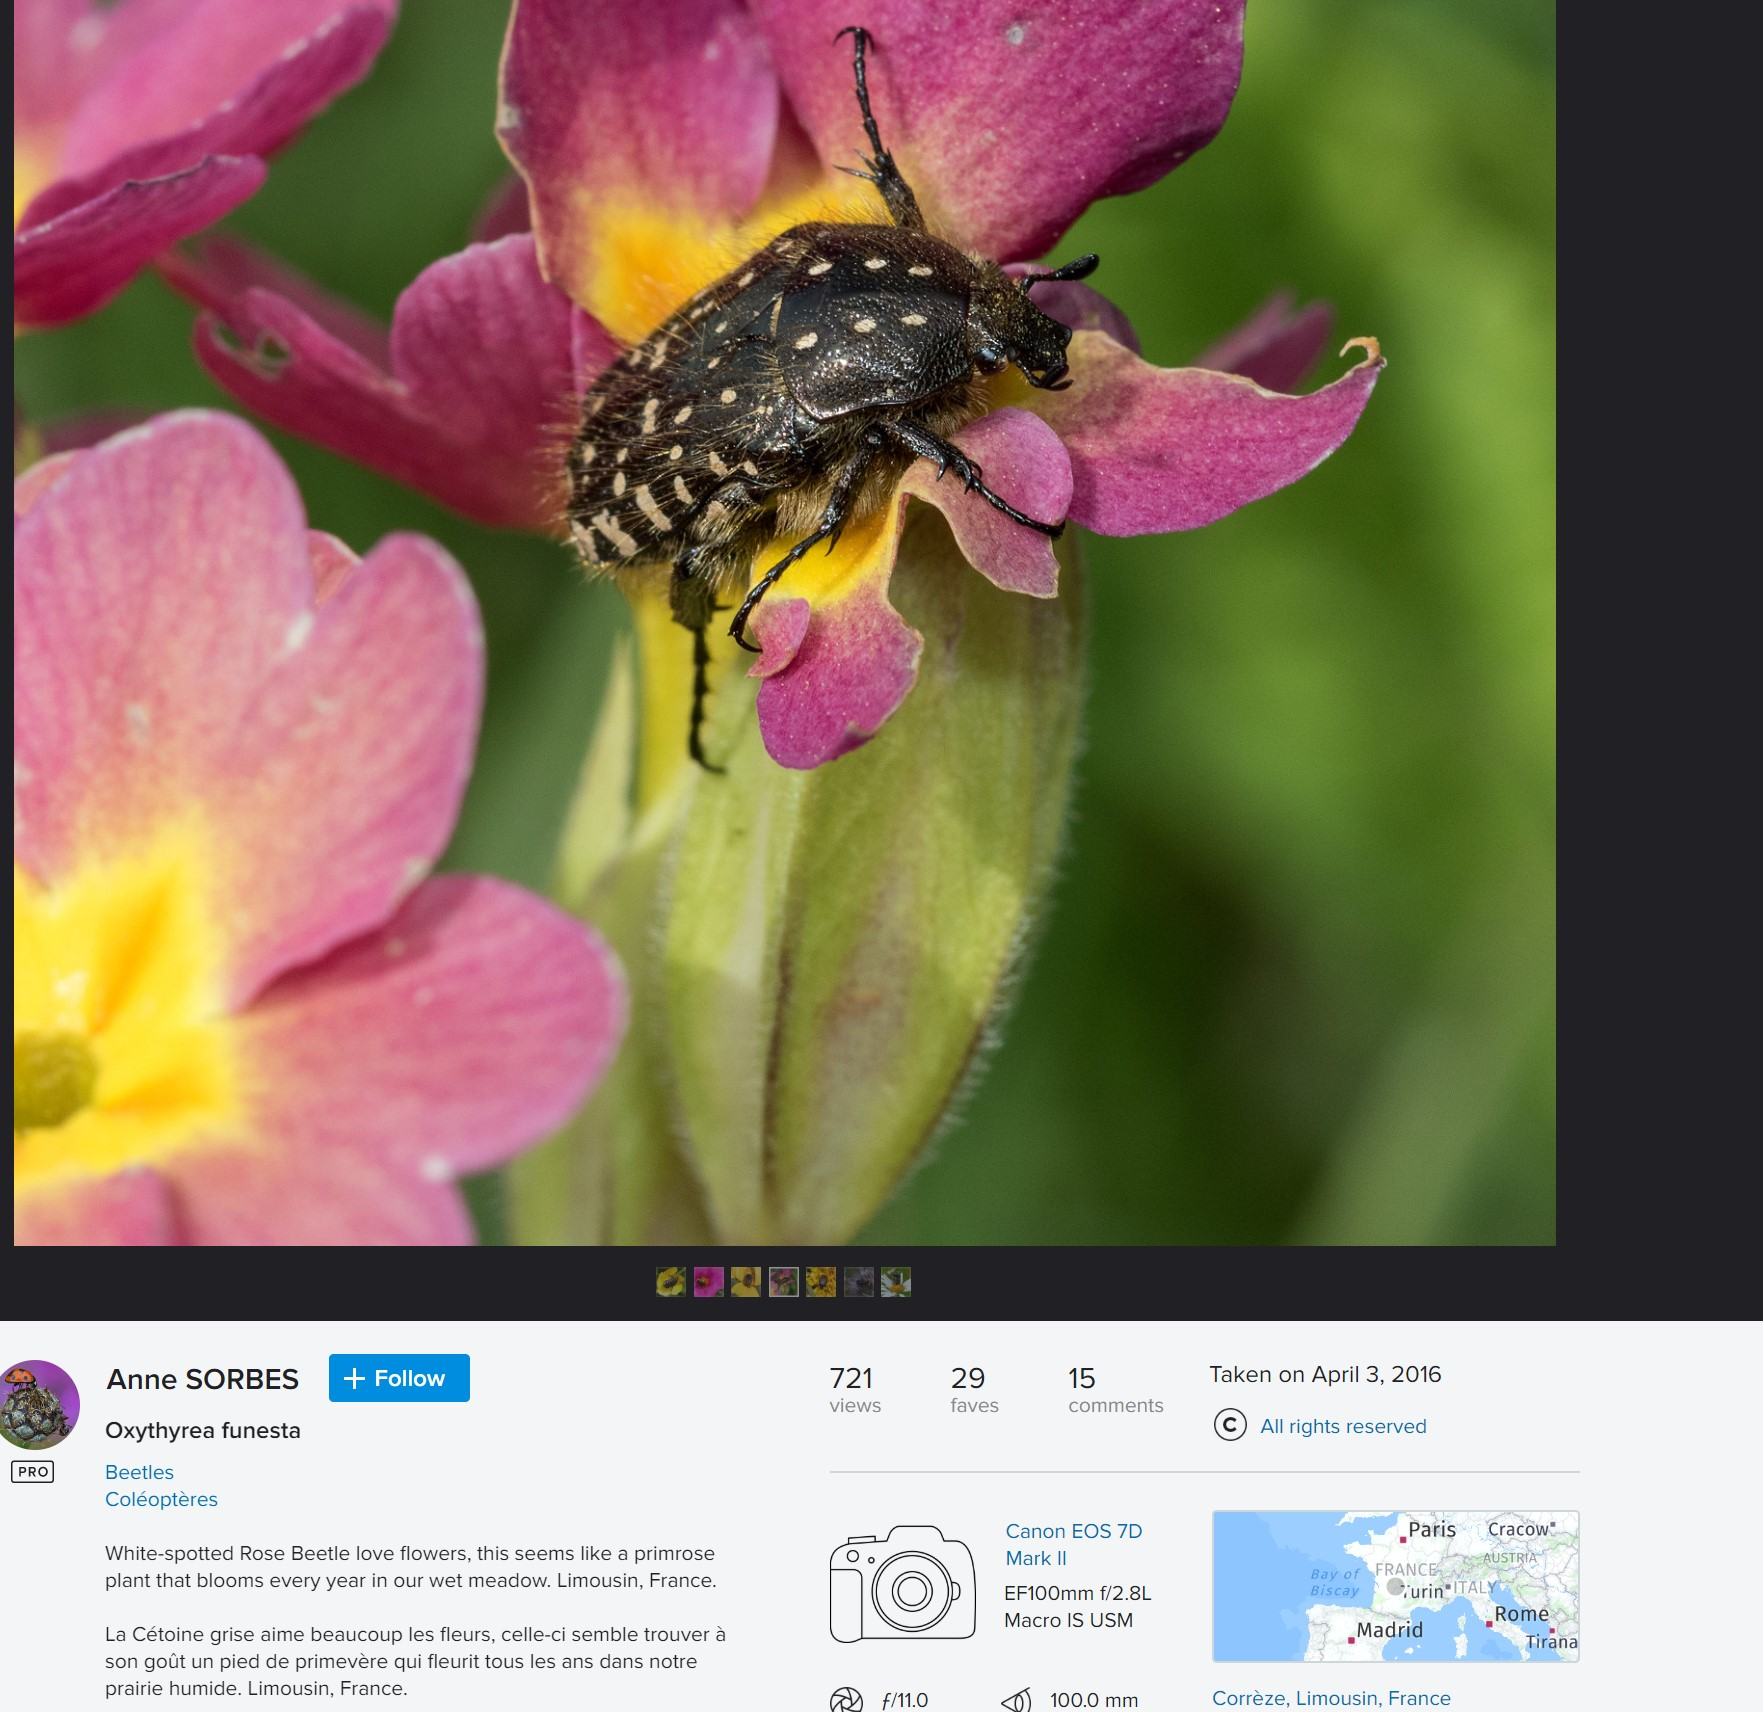Oxythyrea_funesta: (504, 16, 1144, 780)
